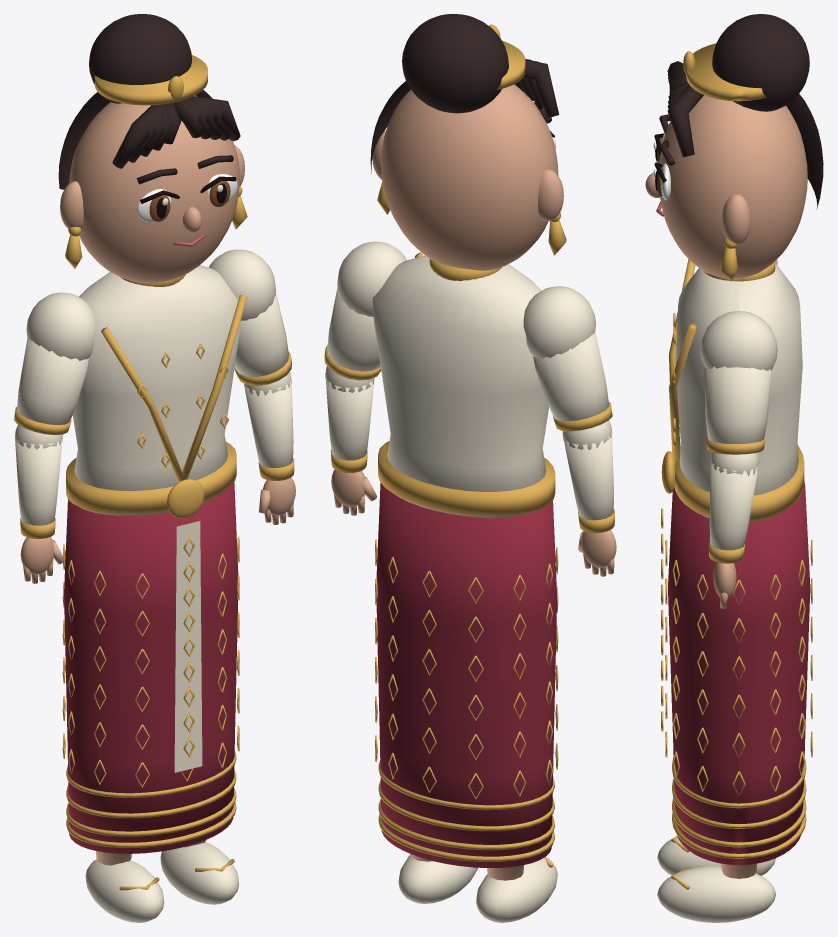
Rendered from visitor-female.glb.
3 views of the same model, side by side, from view 1: azimuth 30°, elevation 25°; view 2: azimuth 150°, elevation 25°; view 3: azimuth 270°, elevation 25° (orthographic). The views are drawn at different scales.
Visible parts, largest first — view 1: Skirt Burgundy silk, Upper Ivory silk, Head Warm porcelain skin, Head Ink brown hair, Upper Embossed gold, Skirt Embossed gold, ArmL Ivory silk, Skirt Ivory silk, ArmR Ivory silk, ForearmL Ivory silk, KneeL Ivory silk, ForearmR Ivory silk (+9 smaller); view 2: Skirt Burgundy silk, Upper Ivory silk, Head Warm porcelain skin, Head Ink brown hair, Skirt Embossed gold, ArmL Ivory silk, ArmR Ivory silk, Upper Embossed gold, ForearmL Ivory silk, ForearmR Ivory silk, KneeL Ivory silk, KneeR Ivory silk (+4 smaller); view 3: Skirt Burgundy silk, Head Warm porcelain skin, Upper Ivory silk, Head Ink brown hair, ArmR Ivory silk, Skirt Embossed gold, Upper Embossed gold, KneeR Ivory silk, ForearmR Ivory silk, Head Embossed gold, KneeL Ivory silk, HandR Warm porcelain skin (+3 smaller).
Part boxes in pixels (x1,y1,x2,y2): Skirt Burgundy silk: (64,482,238,853); Upper Ivory silk: (72,265,241,515); Head Warm porcelain skin: (60,95,244,283); Head Ink brown hair: (58,14,240,189); Upper Embossed gold: (66,274,247,518); Skirt Embossed gold: (62,536,239,847); ArmL Ivory silk: (17,292,96,424); Skirt Ivory silk: (174,521,202,772); ArmR Ivory silk: (209,249,288,376); ForearmL Ivory silk: (15,425,62,525); KneeL Ivory silk: (85,859,164,922); ForearmR Ivory silk: (244,372,293,467); Skirt Burgundy silk: (376,483,556,867); Upper Ivory silk: (372,255,548,517); Head Warm porcelain skin: (372,84,563,270); Head Ink brown hair: (370,14,559,173); Skirt Embossed gold: (375,539,558,861); ArmL Ivory silk: (523,286,609,431); ArmR Ivory silk: (327,241,406,371); Upper Embossed gold: (378,252,555,515); ForearmL Ivory silk: (562,420,613,520); ForearmR Ivory silk: (325,366,374,460); KneeL Ivory silk: (476,857,557,922); KneeR Ivory silk: (398,855,477,903); Skirt Burgundy silk: (668,481,810,864); Head Warm porcelain skin: (645,95,807,278); Upper Ivory silk: (675,264,802,522); Head Ink brown hair: (659,14,823,209); ArmR Ivory silk: (700,311,777,443); Skirt Embossed gold: (661,508,812,858); Upper Embossed gold: (661,259,804,521); KneeR Ivory silk: (657,866,776,922); ForearmR Ivory silk: (709,452,759,550); Head Embossed gold: (683,43,766,281); KneeL Ivory silk: (657,837,775,875); HandR Warm porcelain skin: (713,562,736,608).
Size of the model in its own units: 0.628 by 1.91 by 0.3499.
